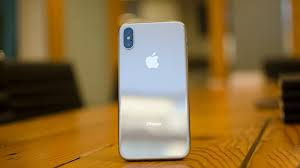iphone: (116, 19, 192, 160)
